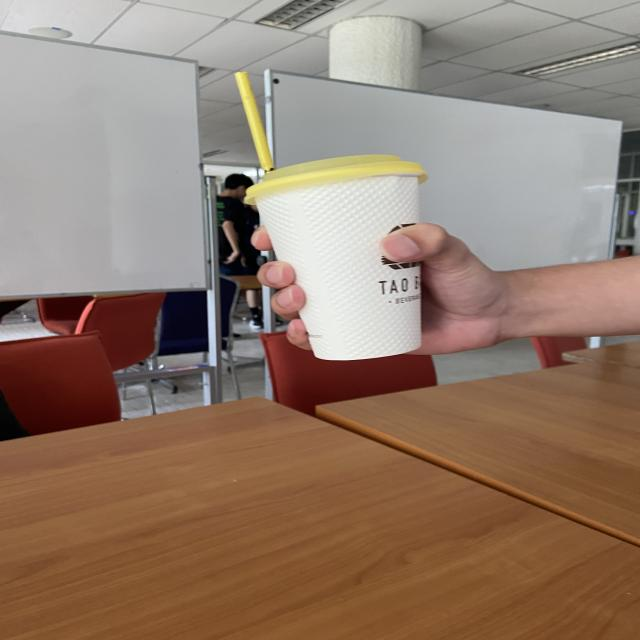cup: (242, 152, 430, 366)
